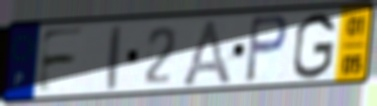2: (143, 24, 179, 86)
A: (178, 16, 235, 87)
F: (35, 25, 88, 96)
G: (291, 11, 338, 82)
I: (106, 23, 123, 93)
P: (243, 13, 290, 85)
